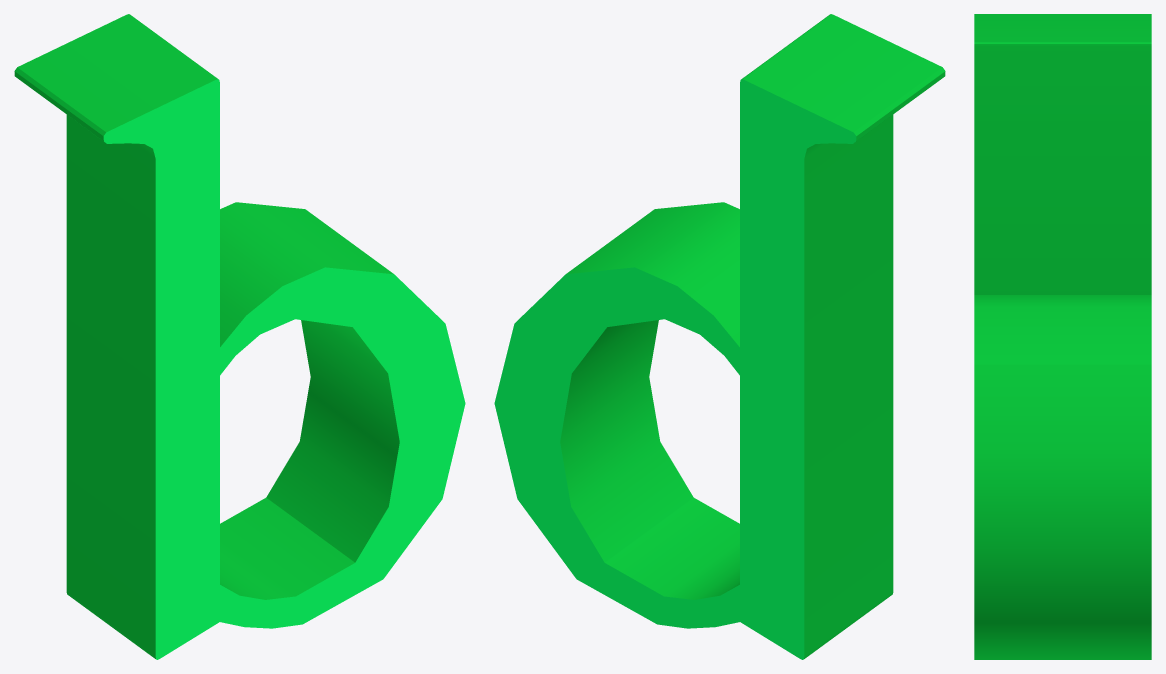
The model's file is B_Soul_Green.glb.
3 views of the same model, side by side, from view 1: azimuth 30°, elevation 25°; view 2: azimuth 150°, elevation 25°; view 3: azimuth 270°, elevation 25° (orthographic).
Visible parts, largest first — view 1: b_Soul_Green; view 2: b_Soul_Green; view 3: b_Soul_Green.
Boxes of the visible parts, left/top/right/bottom form: b_Soul_Green: left=14, top=14, right=465, bottom=659; b_Soul_Green: left=494, top=14, right=945, bottom=659; b_Soul_Green: left=974, top=14, right=1151, bottom=659.
Size of what is drawn, in the model's own units: 0.1056 by 0.1578 by 0.045.
2 materials, 2 textured.
